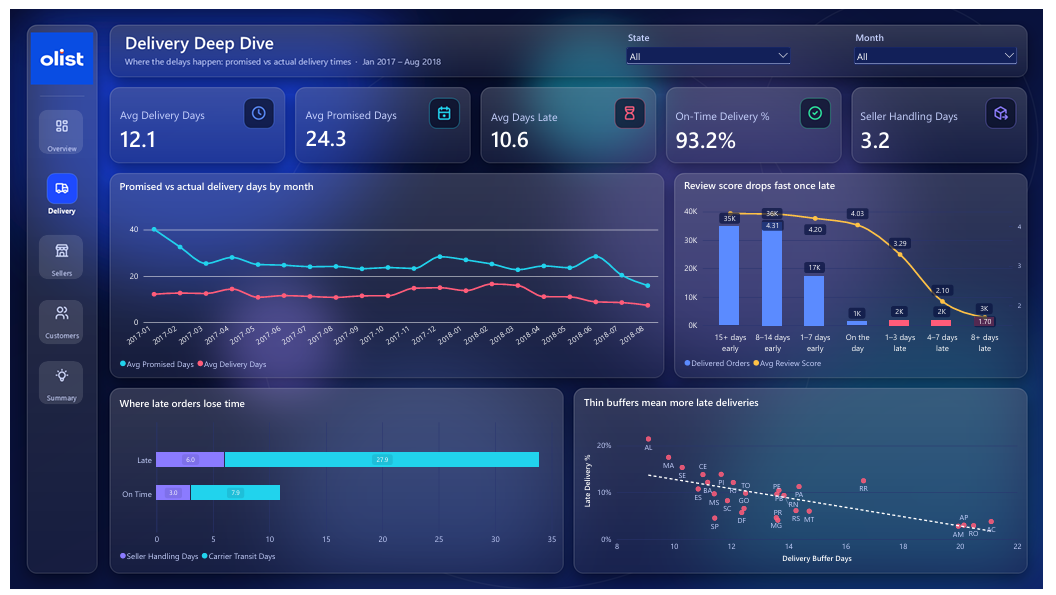

What the dashboard file says about the page in this screenshot:
{"tool":"powerbi","page":{"name":"Delivery","canvas":[1920,1080],"ordinal":2},"visuals":[{"type":"cardVisual","fields":{"Data":["_Measures.Avg Delivery Days"]},"box":[186.5,147.3,233.7,153.2],"z":0},{"type":"slicer","fields":{"Values":["Calendar.Year-Month"]},"box":[1563.1,39.3,313.8,80.5],"z":1000},{"type":"slicer","fields":{"Values":["Customers.customer_state"]},"box":[1140.5,38.9,315.4,79.9],"z":2000},{"type":"cardVisual","fields":{"Data":["_Measures.Seller Handling Days"]},"box":[1563.8,149,248.4,153.4],"z":3000},{"type":"cardVisual","fields":{"Data":["_Measures.On-Time Delivery %"]},"box":[1220.4,149,216,153.4],"z":4000},{"type":"cardVisual","fields":{"Data":["_Measures.Avg Days Late"]},"box":[877,149,218.2,153.4],"z":5000},{"type":"cardVisual","fields":{"Data":["_Measures.Avg Promised Days"]},"box":[532.1,147.3,243.5,153.2],"z":6000},{"type":"actionButton","box":[51.8,185.8,82.1,82.1],"z":7000},{"type":"actionButton","box":[51.8,419,82.1,82.1],"z":8000},{"type":"actionButton","box":[51.8,540,82.1,82.1],"z":9000},{"type":"lineChart","title":"Promised vs actual delivery days by month","fields":{"Category":["Calendar.Year-Month"],"Y":["_Measures.Avg Promised Days","_Measures.Avg Delivery Days"]},"box":[185.8,302.4,1034.6,386.6],"z":10000},{"type":"lineClusteredColumnComboChart","title":"Review score drops fast once late","fields":{"Category":["Orders.Delay Bucket"],"Y":["_Measures.Delivered Orders"],"Y2":["_Measures.Avg Review Score"]},"box":[1236.4,299.6,660.4,388.2],"z":11000},{"type":"barChart","title":"Where late orders lose time","fields":{"Category":["Orders.Delivery Status"],"Y":["_Measures.Seller Handling Days","_Measures.Carrier Transit Days"]},"box":[185.7,704.7,844,341.8],"z":12000},{"type":"scatterChart","title":"Thin buffers mean more late deliveries","fields":{"Category":["Customers.customer_state"],"X":["_Measures.Delivery Buffer Days"],"Y":["_Measures.Late Delivery %"]},"box":[1049.8,704.2,846.7,341.3],"z":13000},{"type":"actionButton","box":[51.8,654.5,82.1,79.9],"z":13001}]}

Visuals, with their boxes on the page's 1920x1080 design canvas (x1, y1, x2, y2). These are canvas units, not pixel positions in the 1056x595 screenshot, which may show the page scaled, cropped or inside an application window:
cardVisual - _Measures.Avg Delivery Days: pyautogui.locateOnScreen(186, 147, 420, 300)
slicer - Calendar.Year-Month: pyautogui.locateOnScreen(1563, 39, 1877, 120)
slicer - Customers.customer_state: pyautogui.locateOnScreen(1140, 39, 1456, 119)
cardVisual - _Measures.Seller Handling Days: pyautogui.locateOnScreen(1564, 149, 1812, 302)
cardVisual - _Measures.On-Time Delivery %: pyautogui.locateOnScreen(1220, 149, 1436, 302)
cardVisual - _Measures.Avg Days Late: pyautogui.locateOnScreen(877, 149, 1095, 302)
cardVisual - _Measures.Avg Promised Days: pyautogui.locateOnScreen(532, 147, 776, 300)
actionButton: pyautogui.locateOnScreen(52, 186, 134, 268)
actionButton: pyautogui.locateOnScreen(52, 419, 134, 501)
actionButton: pyautogui.locateOnScreen(52, 540, 134, 622)
"Promised vs actual delivery days by month" lineChart: pyautogui.locateOnScreen(186, 302, 1220, 689)
"Review score drops fast once late" lineClusteredColumnComboChart: pyautogui.locateOnScreen(1236, 300, 1897, 688)
"Where late orders lose time" barChart: pyautogui.locateOnScreen(186, 705, 1030, 1046)
"Thin buffers mean more late deliveries" scatterChart: pyautogui.locateOnScreen(1050, 704, 1896, 1046)
actionButton: pyautogui.locateOnScreen(52, 654, 134, 734)
